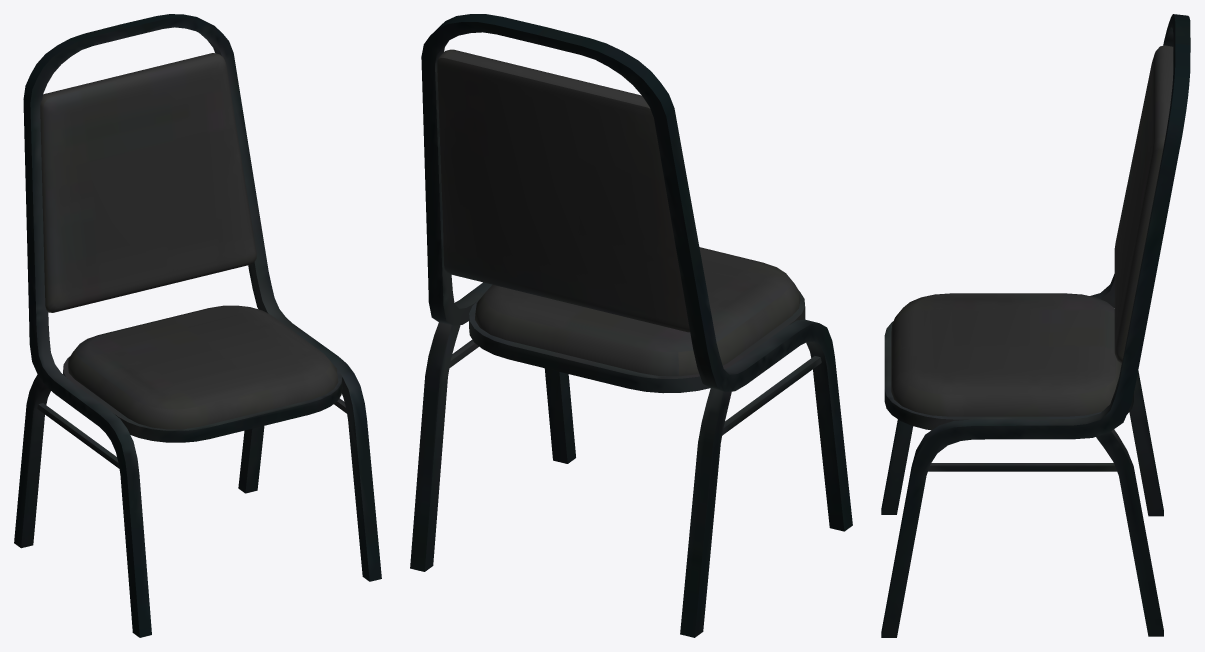
File: conference_chair-opt.glb
3 views of the same model, side by side, from view 1: azimuth 30°, elevation 25°; view 2: azimuth 150°, elevation 25°; view 3: azimuth 270°, elevation 25° (orthographic). The views are drawn at different scales.
Visible parts, largest first — view 1: Conference_Chair_Material.002_0; view 2: Conference_Chair_Material.002_0; view 3: Conference_Chair_Material.002_0.
Boxes of the visible parts, <box> form: Conference_Chair_Material.002_0: <box>14,14,381,637</box>; Conference_Chair_Material.002_0: <box>410,14,852,637</box>; Conference_Chair_Material.002_0: <box>881,14,1190,637</box>.
Size of the model in its own units: 0.4159 by 0.792 by 0.4188.
1 material, 1 textured.
